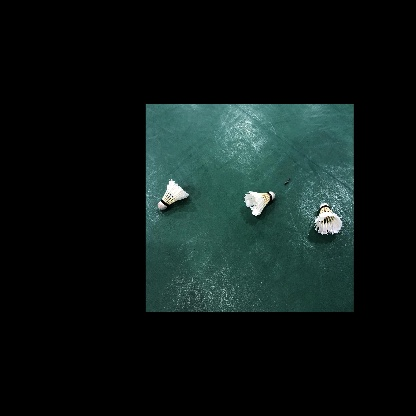ball_single: (157, 179, 189, 210), (314, 203, 342, 235), (244, 191, 275, 216)
